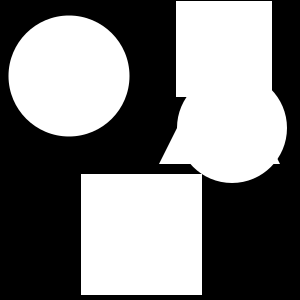circle: (81, 174, 202, 295), (176, 1, 272, 97)
rectangle: (9, 16, 130, 136), (177, 73, 287, 183)
triangle: (159, 43, 280, 164)
